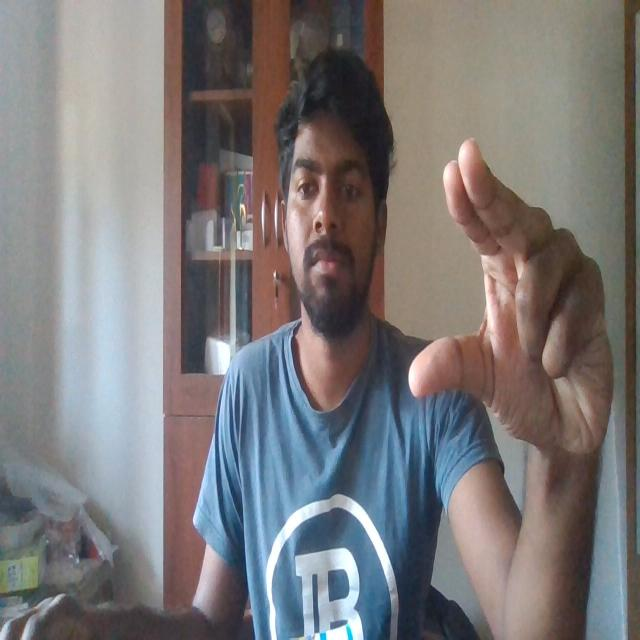No: (404, 127, 619, 464)
